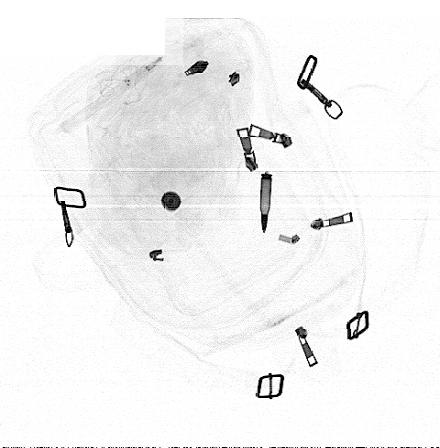Bullet: (260, 170, 272, 234)
